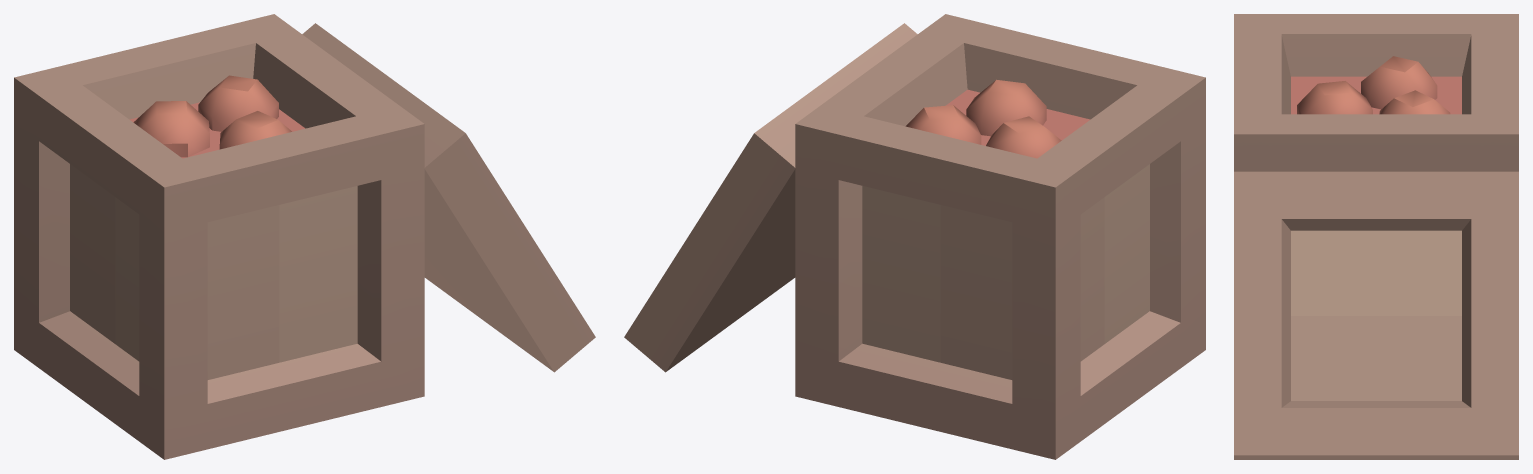
File: crate_open.gltf
3 renders of one model, left to right at view 1: azimuth 30°, elevation 25°; view 2: azimuth 150°, elevation 25°; view 3: azimuth 270°, elevation 25°, orthographic. The views are drawn at different scales.
Visible parts, largest first — view 1: crate_open; view 2: crate_open; view 3: crate_open.
Part boxes in pixels (box(x1,y1,x2,y2)): crate_open: box(14, 14, 595, 459); crate_open: box(624, 14, 1205, 459); crate_open: box(1234, 14, 1518, 459).
Bounding box in the file's own units: 0.3316 × 0.2056 × 0.2.
